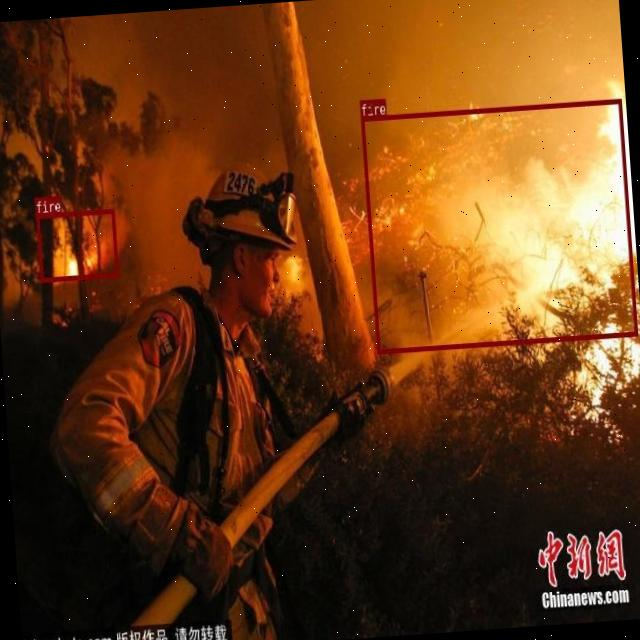fire: (360, 99, 637, 354), (34, 208, 119, 282)
